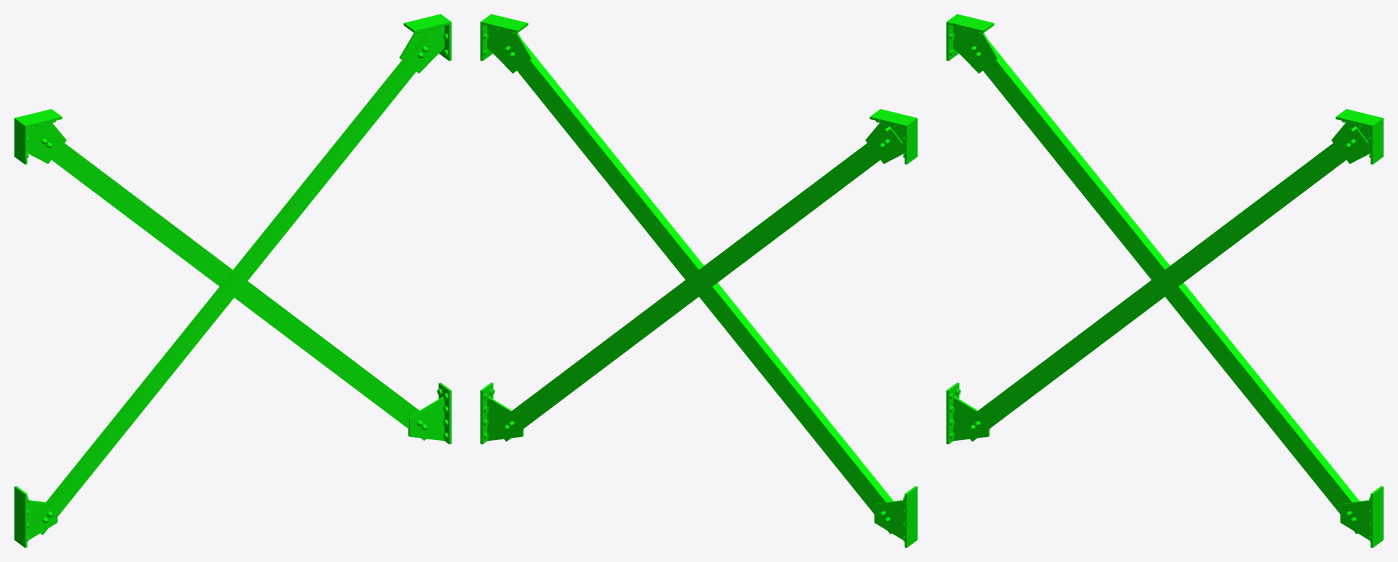
Rendered from Structure02_Support01.fbx.
3 views of the same model, side by side, from view 1: azimuth 30°, elevation 25°; view 2: azimuth 150°, elevation 25°; view 3: azimuth 330°, elevation 25° (orthographic).
Visible parts, largest first — view 1: Structure02_Support01_LOD0; view 2: Structure02_Support01_LOD0; view 3: Structure02_Support01_LOD0.
Part boxes in pixels (<box>): Structure02_Support01_LOD0: <box>14,14,451,547</box>; Structure02_Support01_LOD0: <box>480,14,917,547</box>; Structure02_Support01_LOD0: <box>946,14,1383,547</box>.
Size of what is drawn, in the model's own units: 288 by 272 by 12.5.
